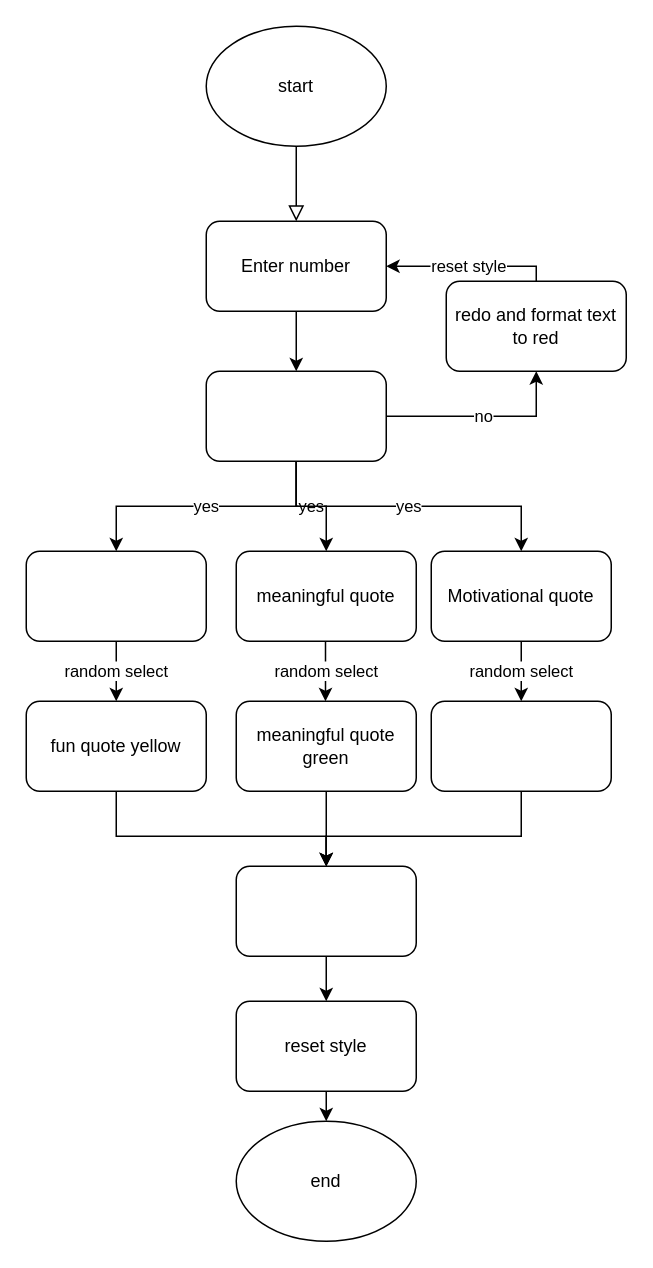
The diagram is 653 pixels wide and 1268 high, and some of its shapes have lost their labels. The centre of each missing label's shape, as x and y in pixels:
enter 1,2 or 3: point 295,415
fun quote: point 115,595
motivational quote blue: point 520,745
print random quote: point 325,910
